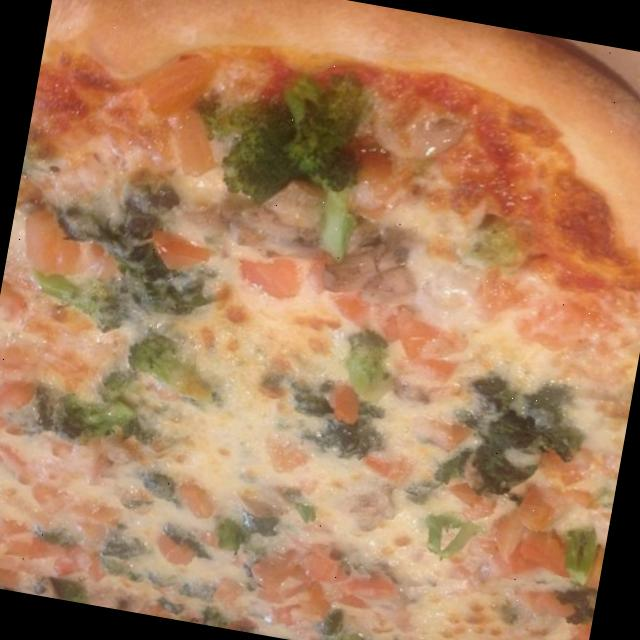basil: (440, 372, 578, 509), (297, 394, 381, 459)
cheese: (180, 240, 488, 537)
